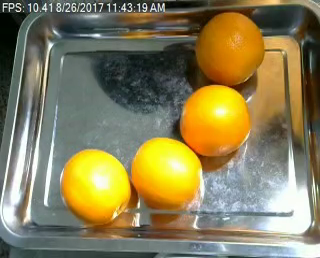Orange: (60, 147, 132, 223), (195, 10, 265, 85), (130, 138, 201, 210), (179, 84, 248, 157)
